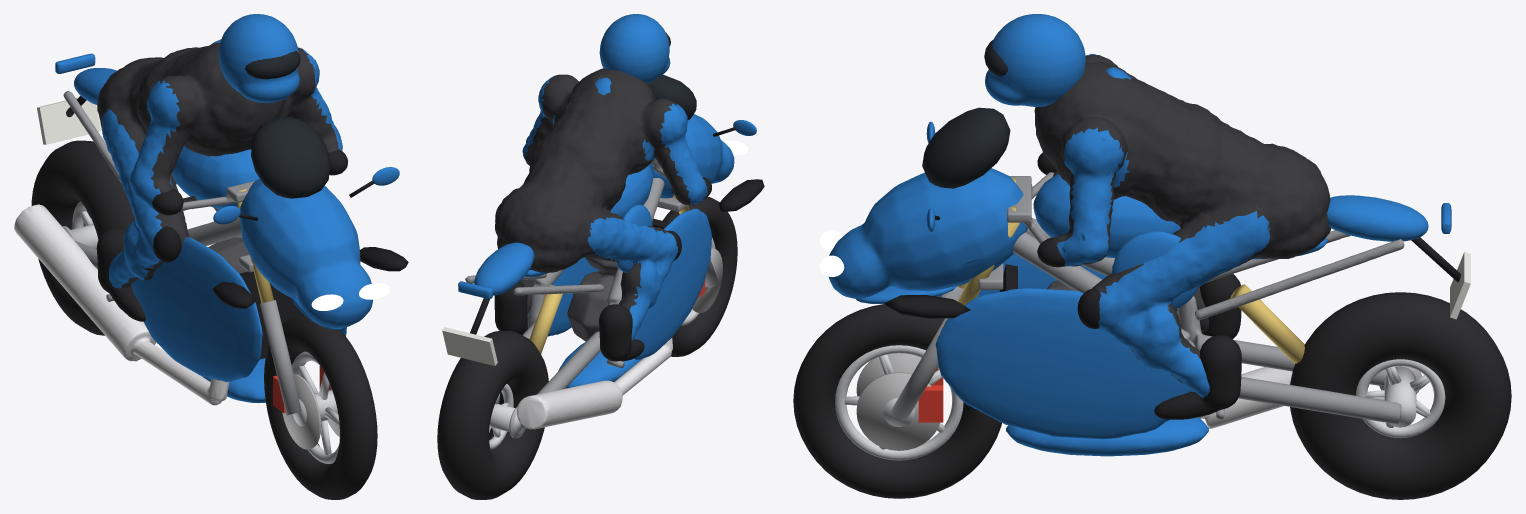
The model's file is bike_vector.glb.
3 views of the same model, side by side, from view 1: azimuth 30°, elevation 25°; view 2: azimuth 150°, elevation 25°; view 3: azimuth 270°, elevation 25° (orthographic). The views are drawn at different scales.
Visible parts, largest first — view 1: Body, WheelMesh_Wheel_Front, WheelMesh_Wheel_Rear; view 2: Body, WheelMesh_Wheel_Rear, WheelMesh_Wheel_Front; view 3: Body, WheelMesh_Wheel_Rear, WheelMesh_Wheel_Front.
Part boxes in pixels (<box>): Body: <box>14,14,408,415</box>; WheelMesh_Wheel_Front: <box>264,314,377,499</box>; WheelMesh_Wheel_Rear: <box>31,140,134,335</box>; Body: <box>442,14,764,429</box>; WheelMesh_Wheel_Rear: <box>437,331,548,499</box>; WheelMesh_Wheel_Front: <box>662,196,737,356</box>; Body: <box>820,14,1470,456</box>; WheelMesh_Wheel_Rear: <box>1290,292,1511,499</box>; WheelMesh_Wheel_Front: <box>793,304,1001,498</box>.
Size of the model in its own units: 0.8589 by 1.71 by 2.32.
